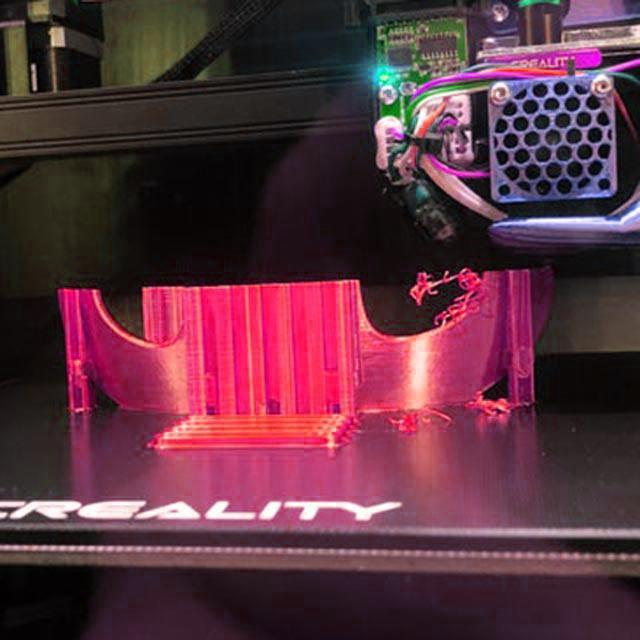Spaghetti: (410, 266, 488, 334), (386, 402, 454, 436), (462, 392, 524, 417)
